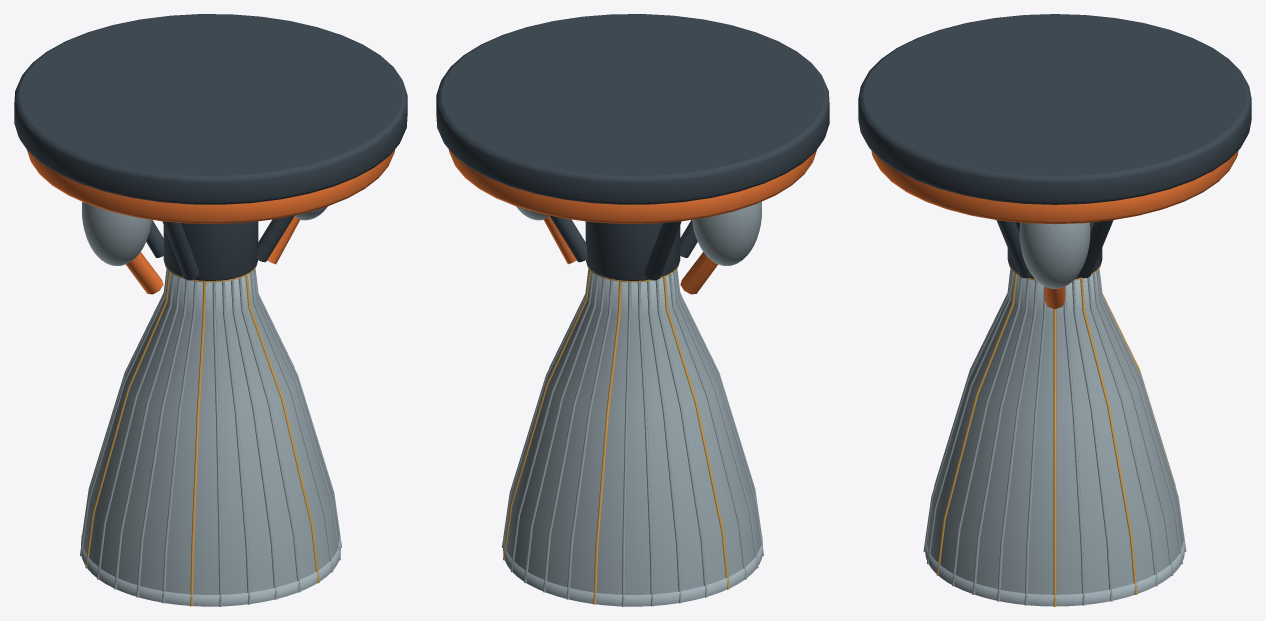
Rendered from engineSeaSmall.glb.
The picture shows the model from 3 angles, left to right: view 1: azimuth 30°, elevation 25°; view 2: azimuth 150°, elevation 25°; view 3: azimuth 270°, elevation 25°; orthographic projection.
Parts seen in each view (by area): view 1: EngineMount, GimbalNozzle; view 2: EngineMount, GimbalNozzle; view 3: EngineMount, GimbalNozzle.
Part boxes in pixels (bbox=[...]): EngineMount: bbox=[14, 14, 407, 294]; GimbalNozzle: bbox=[80, 263, 341, 606]; EngineMount: bbox=[436, 14, 829, 294]; GimbalNozzle: bbox=[502, 263, 763, 606]; EngineMount: bbox=[858, 14, 1251, 309]; GimbalNozzle: bbox=[923, 264, 1186, 606].
Bounding box in the file's own units: 0.625 × 0.8 × 0.625.
